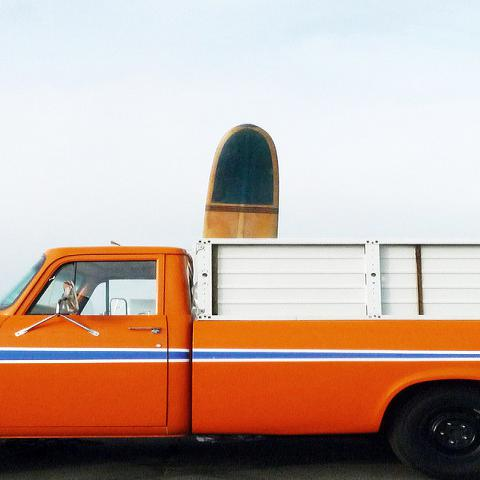truck: (4, 242, 479, 474)
